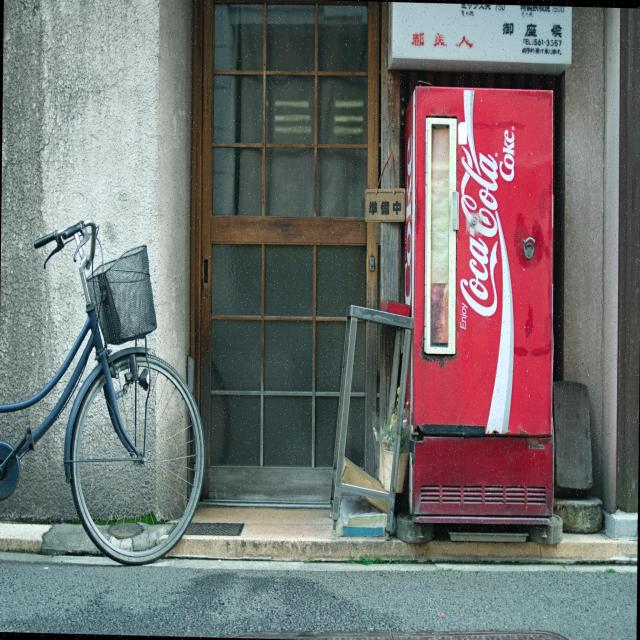coca-cola: (456, 141, 506, 321)
